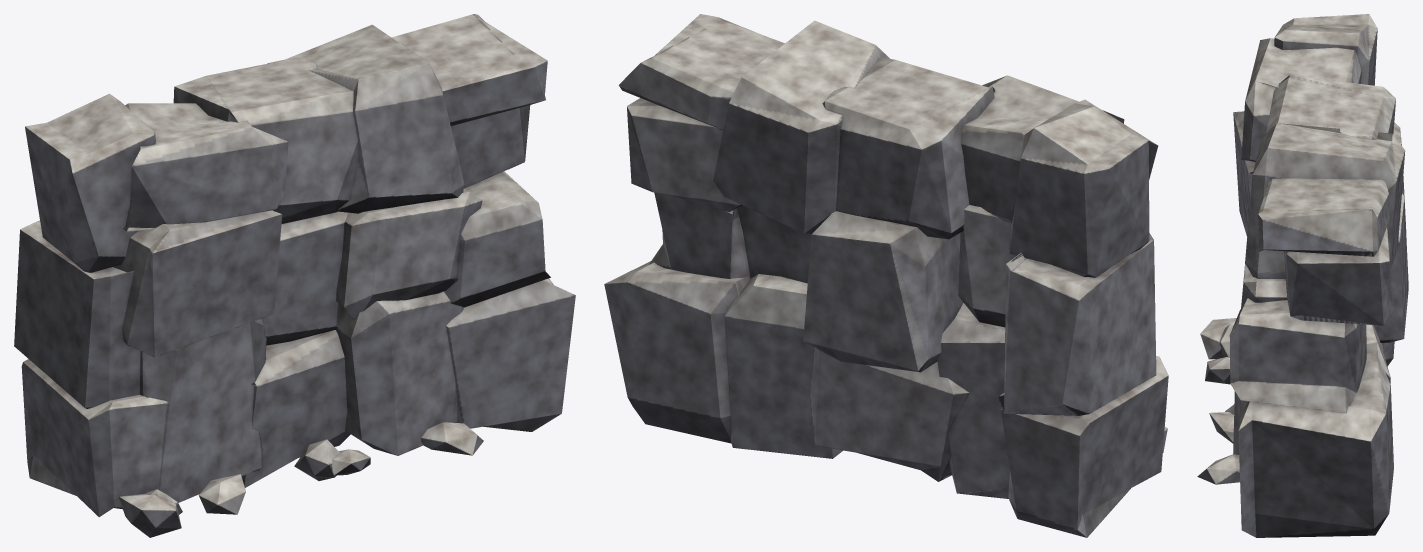
Rendered from Env_CliffGray_1.glb.
3 views of the same model, side by side, from view 1: azimuth 30°, elevation 25°; view 2: azimuth 150°, elevation 25°; view 3: azimuth 270°, elevation 25° (orthographic). The views are drawn at different scales.
Parts seen in each view (by area): view 1: Env_CliffGray_1.001; view 2: Env_CliffGray_1.001; view 3: Env_CliffGray_1.001.
Boxes of the visible parts, x1=… form: Env_CliffGray_1.001: x1=14, y1=14, x2=575, y2=537; Env_CliffGray_1.001: x1=604, y1=14, x2=1168, y2=537; Env_CliffGray_1.001: x1=1197, y1=14, x2=1408, y2=537.
Size of the model in its own units: 12 by 8.94 by 4.93.
1 material, 1 textured.
